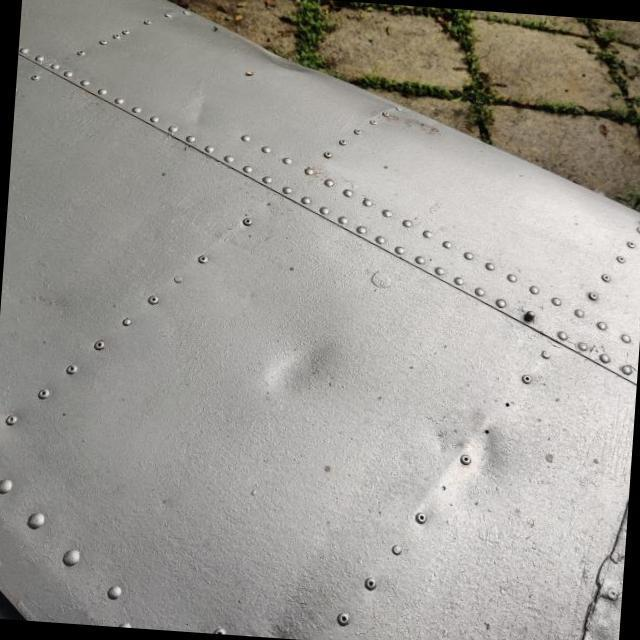Dent: (222, 294, 360, 427), (412, 388, 534, 514)
